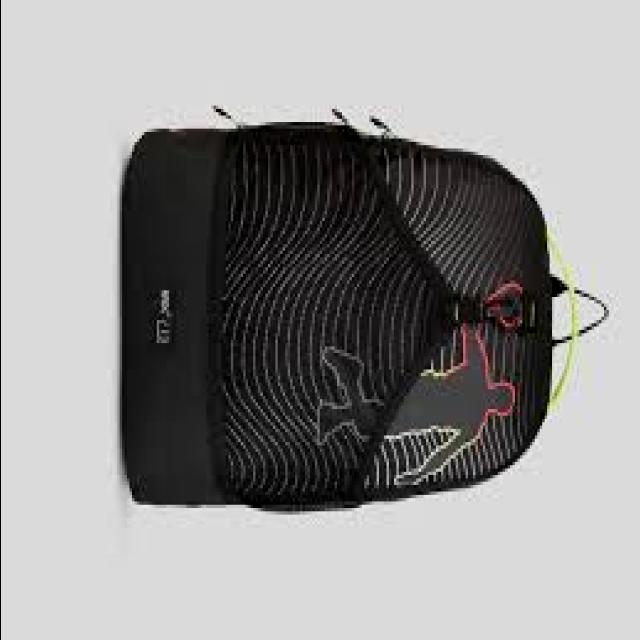backpack: (122, 107, 612, 513)
